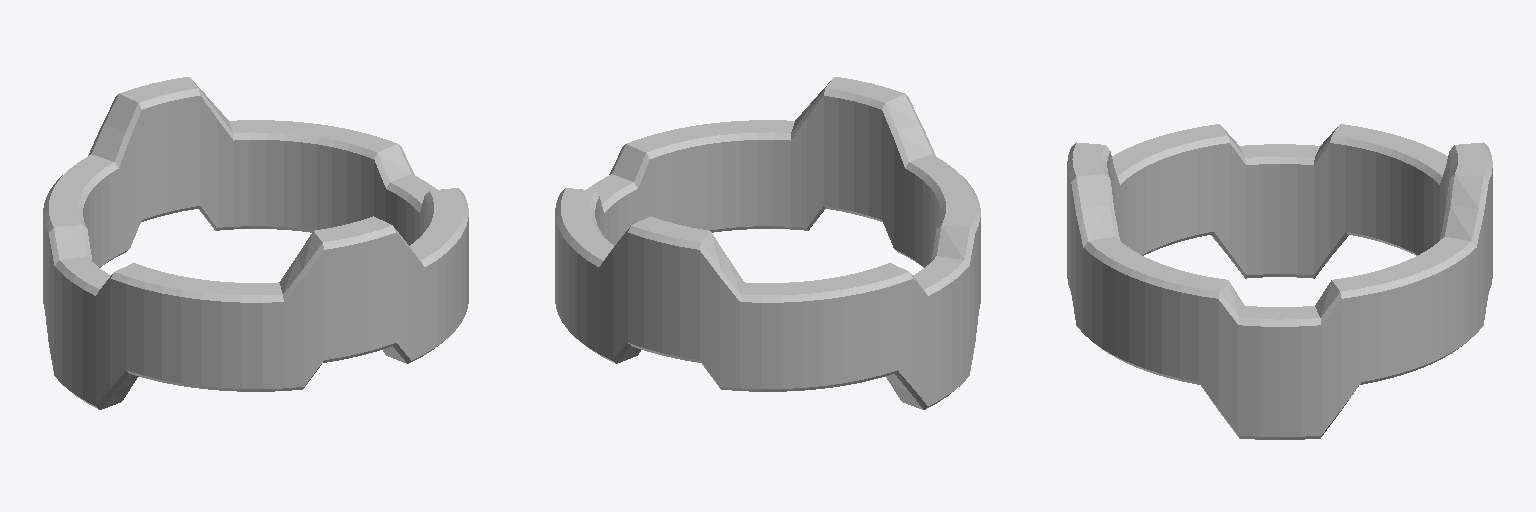
Rendered from creature_intact.obj.
3 renders of one model, left to right at view 1: azimuth 30°, elevation 25°; view 2: azimuth 150°, elevation 25°; view 3: azimuth 270°, elevation 25°, orthographic.
Visible parts, largest first — view 1: CylinderApplied; view 2: CylinderApplied; view 3: CylinderApplied.
Part boxes in pixels (bbox=[...]): CylinderApplied: bbox=[43, 77, 468, 409]; CylinderApplied: bbox=[555, 77, 980, 409]; CylinderApplied: bbox=[1067, 124, 1492, 439].
Size of the model in its own units: 16 by 8 by 16.